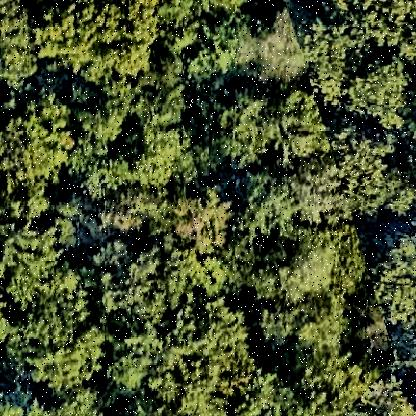tree-top: (250, 226, 362, 356), (110, 297, 258, 393), (77, 91, 194, 196), (36, 1, 163, 82), (1, 296, 103, 390), (219, 91, 328, 175), (97, 231, 189, 321), (2, 92, 72, 199), (276, 344, 372, 416), (161, 1, 251, 77), (148, 189, 234, 255), (332, 132, 396, 215), (306, 18, 368, 101), (348, 50, 416, 125), (2, 223, 62, 307), (369, 233, 416, 331), (241, 174, 301, 243), (296, 158, 351, 229), (338, 1, 416, 51), (250, 15, 306, 81)
